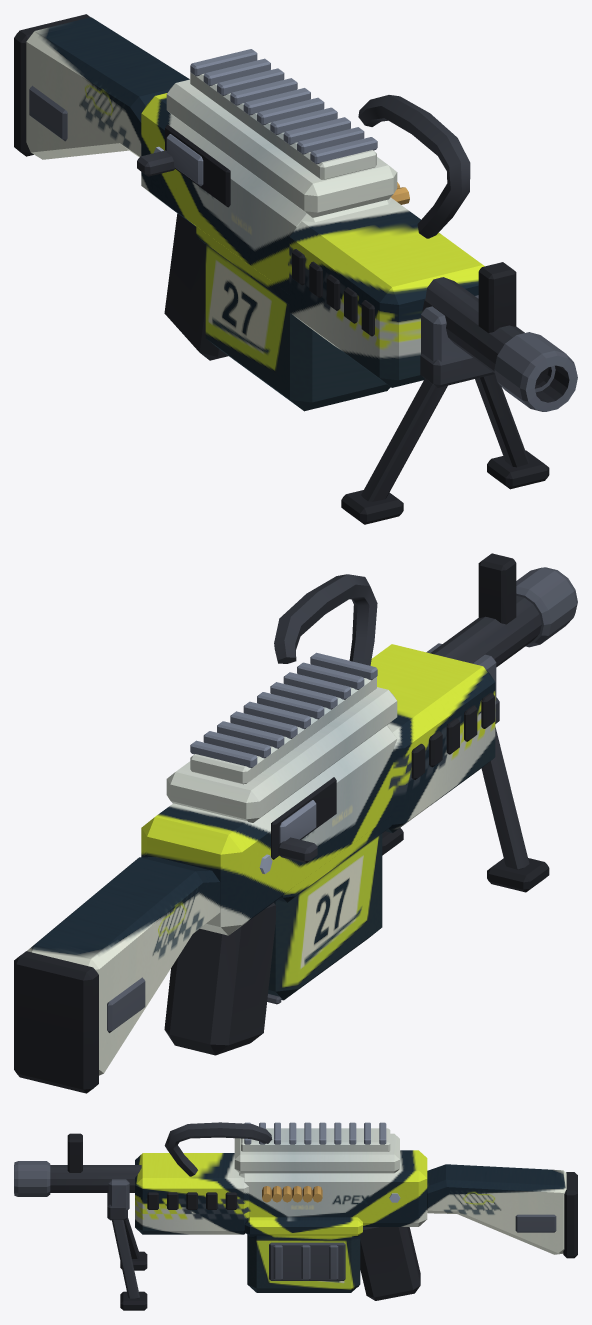
The model's file is M249_PolePosition.glb.
3 renders of one model, top to bottom at view 1: azimuth 30°, elevation 25°; view 2: azimuth 150°, elevation 25°; view 3: azimuth 270°, elevation 25°, orthographic. The views are drawn at different scales.
Visible parts, largest first — view 1: Main, Stock, Magazine, Bipod, Bolt; view 2: Main, Stock, Magazine, Bipod, Bolt; view 3: Main, Stock, Magazine, Bipod.
Part boxes in pixels (x1=…): Main: x1=141, y1=49, x2=577, y2=411; Stock: x1=14, y1=14, x2=189, y2=159; Magazine: x1=196, y1=226, x2=390, y2=411; Bipod: x1=341, y1=353, x2=549, y2=524; Bolt: x1=137, y1=134, x2=203, y2=186; Main: x1=141, y1=553, x2=577, y2=1055; Stock: x1=14, y1=857, x2=220, y2=1093; Magazine: x1=268, y1=815, x2=391, y2=1000; Bipod: x1=382, y1=697, x2=549, y2=892; Bolt: x1=278, y1=800, x2=317, y2=863; Main: x1=14, y1=1122, x2=427, y2=1300; Stock: x1=427, y1=1164, x2=577, y2=1258; Magazine: x1=244, y1=1217, x2=362, y2=1292; Bipod: x1=107, y1=1193, x2=147, y2=1310.
Size of the model in its own units: 0.884 by 1.49 by 4.06.
Materials: 2 (1 with a texture image).
